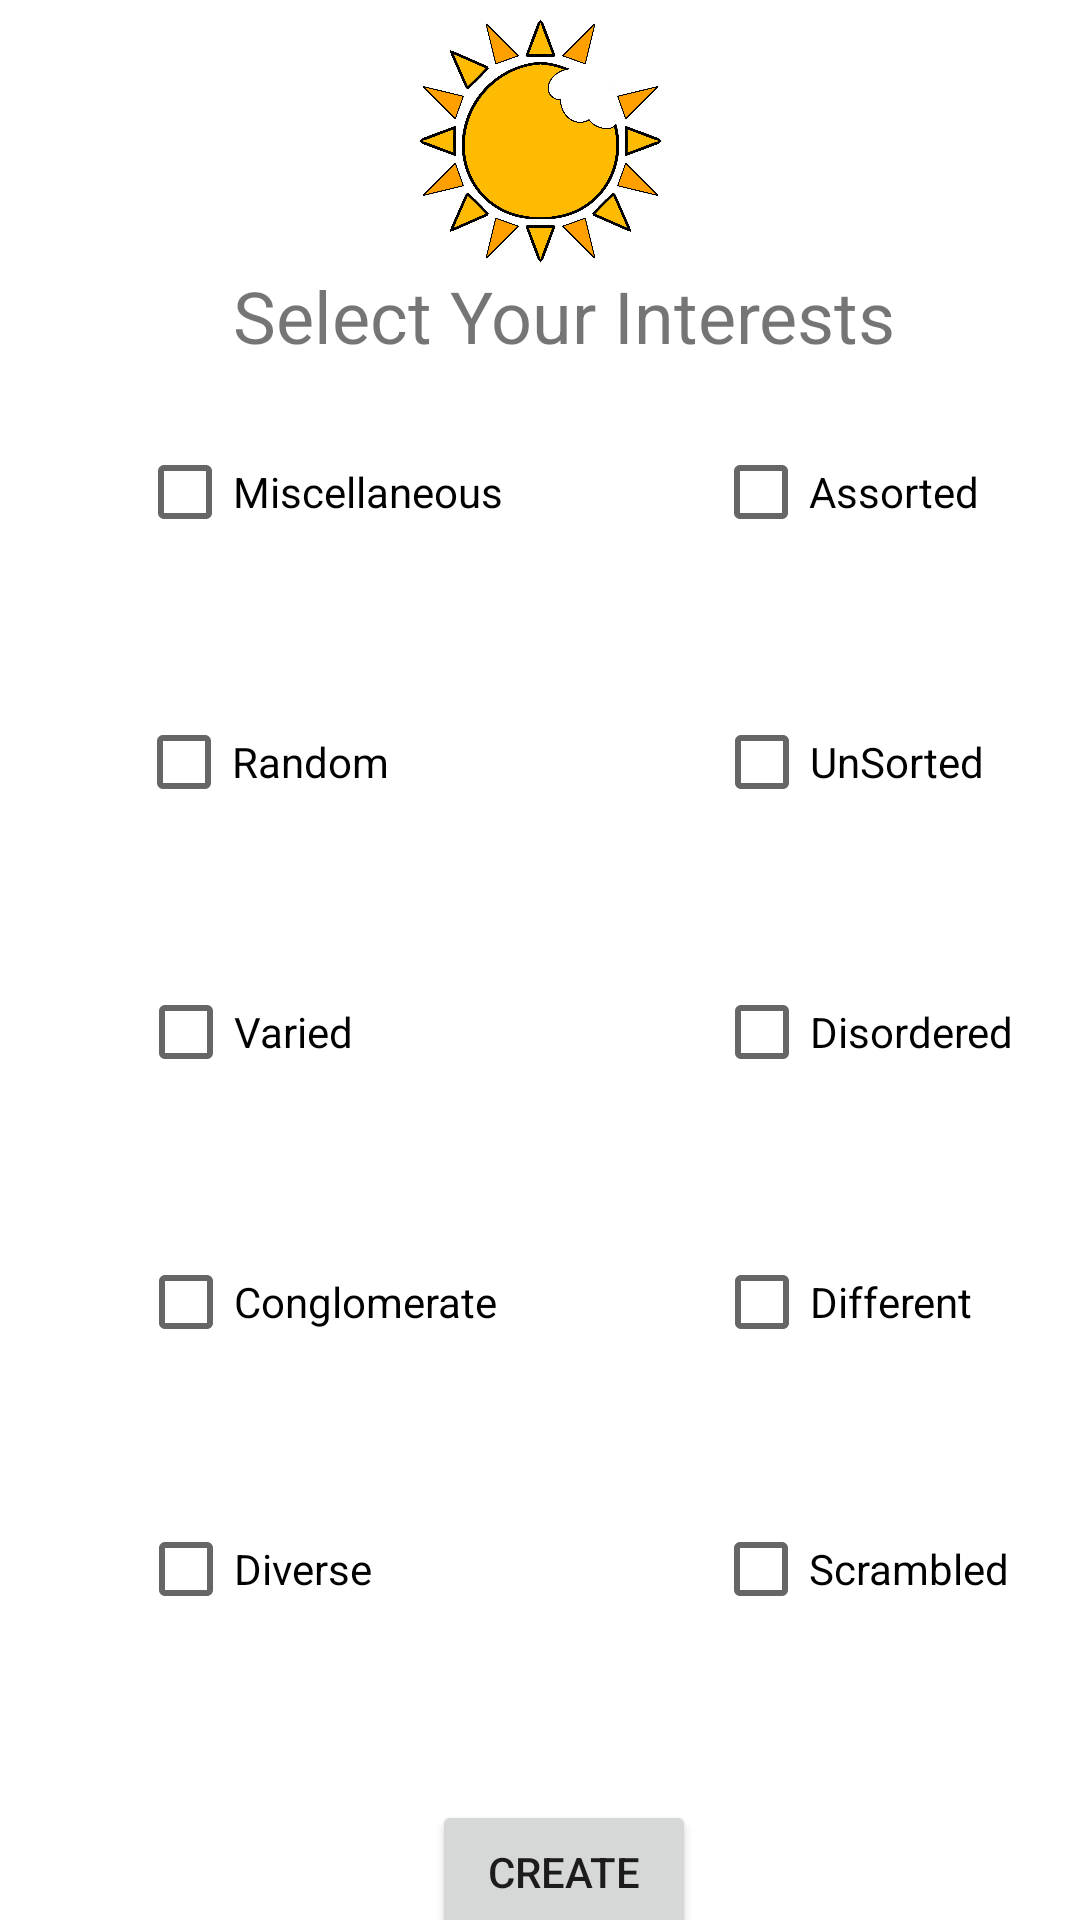

Locate icon controls on the screen. Image size 1080×1920, boxes as BBox(x1, y1, x2, y2).
daybite: BBox(420, 19, 661, 263)
